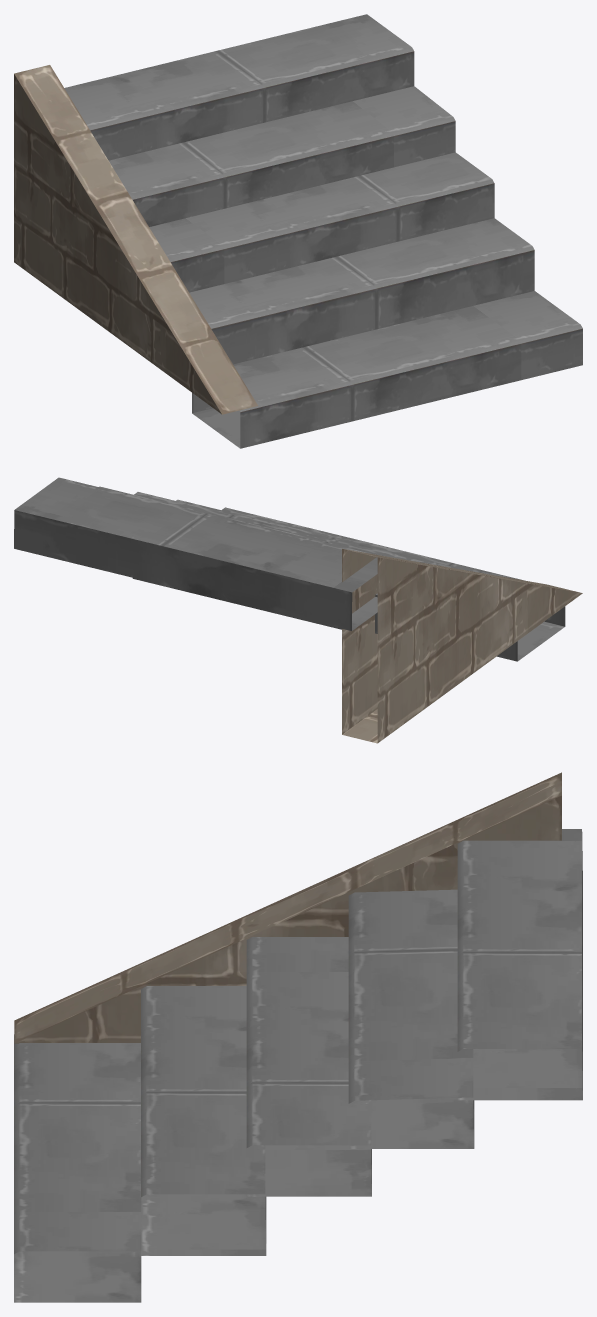
The model's file is Stairs_Exterior_Straight_L.gltf.
3 renders of one model, top to bottom at view 1: azimuth 30°, elevation 25°; view 2: azimuth 150°, elevation 25°; view 3: azimuth 270°, elevation 25°, orthographic. The views are drawn at different scales.
Parts seen in each view (by area): view 1: Stairs_Exterior_Straight_L; view 2: Stairs_Exterior_Straight_L; view 3: Stairs_Exterior_Straight_L.
Part boxes in pixels (x1,y1,x2,y2): Stairs_Exterior_Straight_L: (14,14,582,448); Stairs_Exterior_Straight_L: (14,477,582,743); Stairs_Exterior_Straight_L: (14,772,582,1302).
Bounding box in the file's own units: 2 × 1.2 × 2.08.
2 materials, 2 textured.
